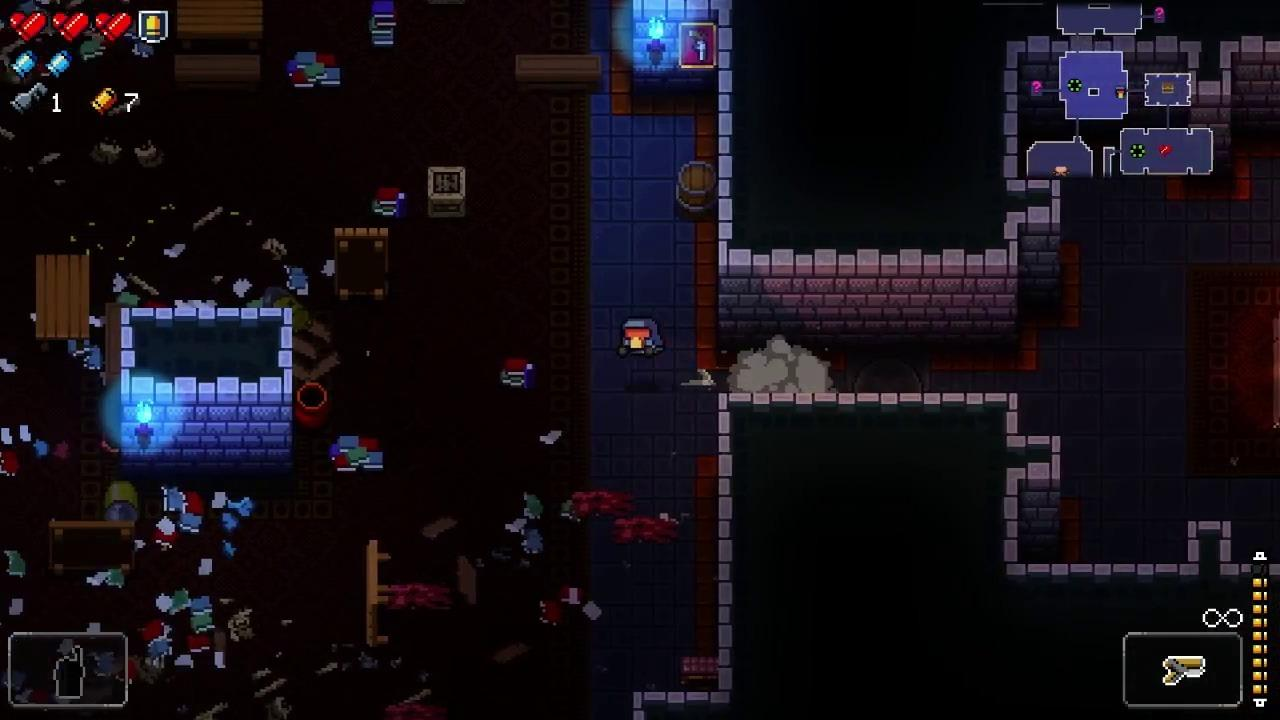dead_bullet_kin: (108, 481, 139, 521)
player: (621, 320, 664, 359)
pressure_plate: (846, 342, 930, 394)
table: (36, 255, 90, 351), (50, 520, 136, 575), (177, 0, 264, 49), (334, 226, 389, 303), (367, 542, 389, 646)
